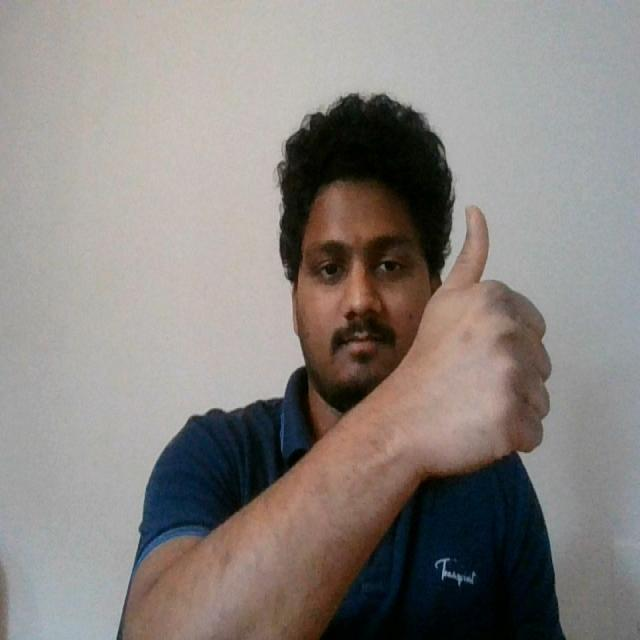Yes: (382, 199, 560, 490)
